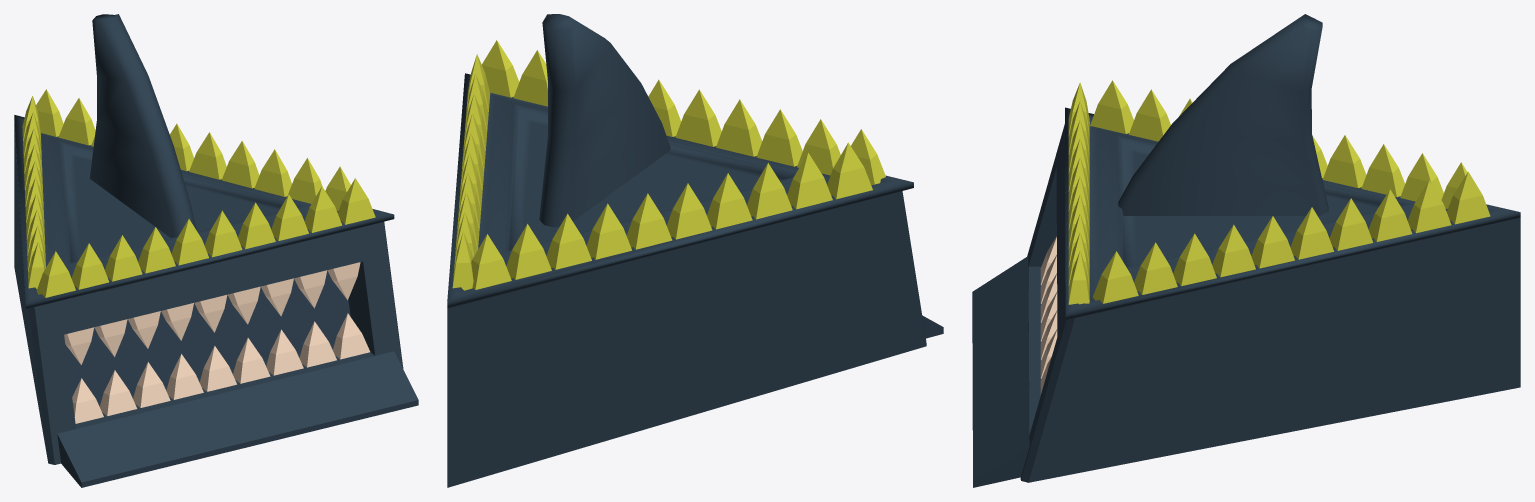
The model's file is shark_temple.fbx.
3 views of the same model, side by side, from view 1: azimuth 30°, elevation 25°; view 2: azimuth 150°, elevation 25°; view 3: azimuth 270°, elevation 25° (orthographic). The views are drawn at different scales.
Parts seen in each view (by area): view 1: Cube, Cube.002, Cube.001, Cube.005, Cube.004, Cube.006, Cube.003, Cube.007; view 2: Cube, Cube.002, Cube.001, Cube.007, Cube.005, Cube.006; view 3: Cube, Cube.001, Cube.002, Cube.006, Cube.007, Cube.005, Cube.004.
Boxes of the visible parts, left/top/right/bottom form: Cube: left=14, top=123, right=418, bottom=487; Cube.002: left=14, top=115, right=394, bottom=309; Cube.001: left=89, top=14, right=196, bottom=238; Cube.005: left=36, top=178, right=375, bottom=297; Cube.004: left=72, top=313, right=370, bottom=423; Cube.006: left=36, top=89, right=350, bottom=210; Cube.003: left=64, top=262, right=360, bottom=364; Cube.007: left=22, top=96, right=45, bottom=288; Cube: left=447, top=191, right=943, bottom=487; Cube.002: left=447, top=73, right=913, bottom=308; Cube.001: left=539, top=14, right=670, bottom=227; Cube.007: left=471, top=142, right=872, bottom=289; Cube.005: left=481, top=40, right=885, bottom=185; Cube.006: left=452, top=54, right=490, bottom=290; Cube: left=972, top=124, right=1520, bottom=487; Cube.001: left=1118, top=14, right=1328, bottom=215; Cube.002: left=1065, top=107, right=1520, bottom=319; Cube.006: left=1093, top=171, right=1490, bottom=303; Cube.007: left=1090, top=80, right=1467, bottom=208; Cube.005: left=1068, top=82, right=1089, bottom=304; Cube.004: left=1040, top=236, right=1057, bottom=394.
Size of the model in its own units: 2933 by 2462 by 3274.
